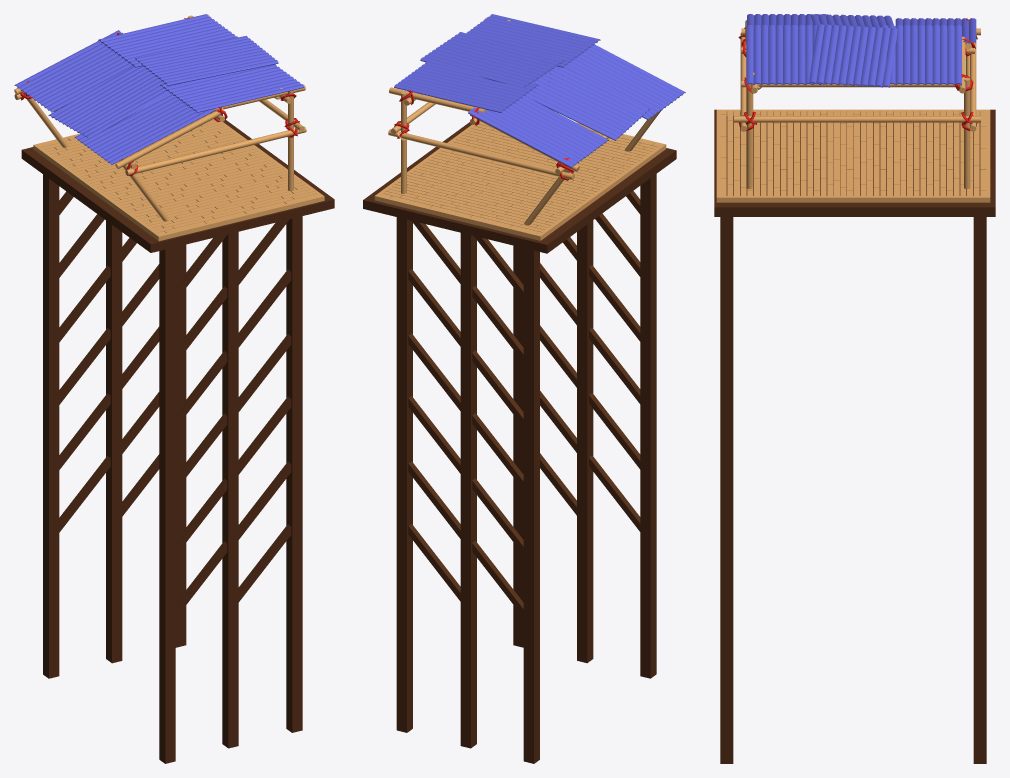
Rendered from Stall03.fbx.
3 views of the same model, side by side, from view 1: azimuth 30°, elevation 25°; view 2: azimuth 150°, elevation 25°; view 3: azimuth 270°, elevation 25° (orthographic). The views are drawn at different scales.
Visible parts, largest first — view 1: Cube.517; view 2: Cube.517; view 3: Cube.517.
Boxes of the visible parts, x1,y1,x2,y2 form: Cube.517: (14,14,334,763); Cube.517: (363,14,685,763); Cube.517: (714,14,995,763).
Size of the model in its own units: 745 by 2169 by 799.
